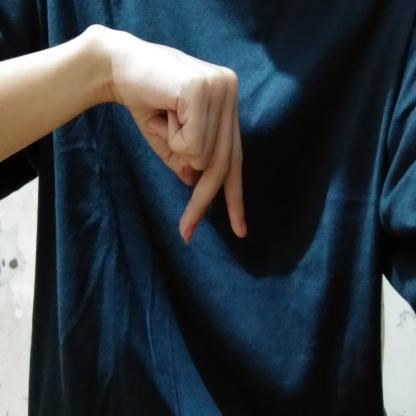run: (85, 21, 263, 256)
